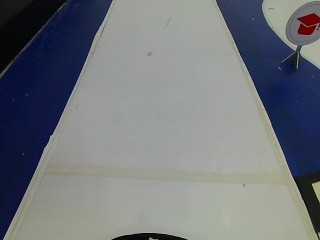school: (283, 7, 318, 45)
